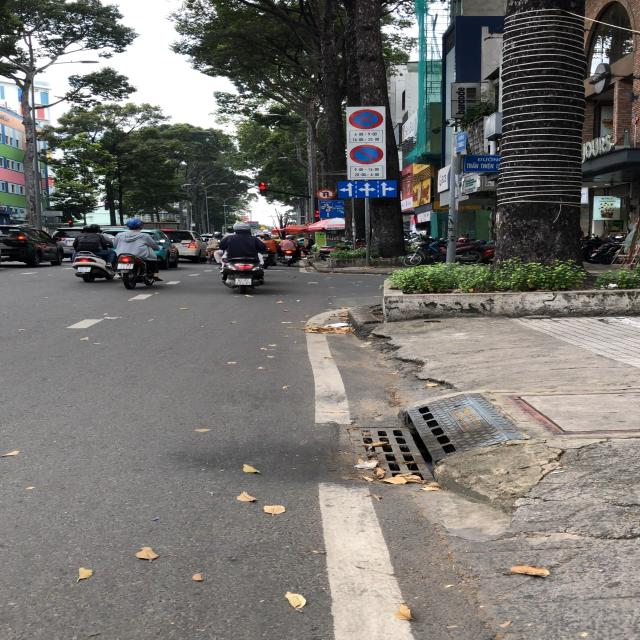Bien bao cam do xe: (349, 142, 385, 165)
Bien bao cam dung xe va do xe: (347, 108, 386, 128)
Bien bao cam quay dau xe: (313, 188, 335, 200)
